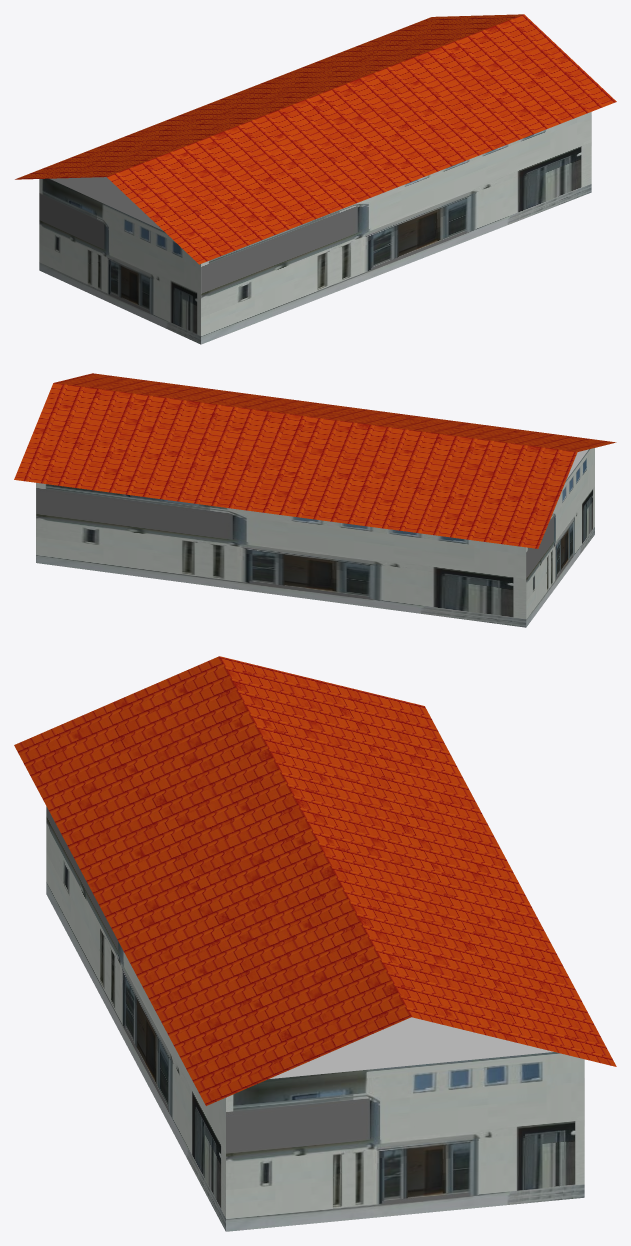
The picture shows the model from 3 angles, top to bottom: view 1: azimuth 30°, elevation 25°; view 2: azimuth 150°, elevation 25°; view 3: azimuth 270°, elevation 25°; orthographic projection. The views are drawn at different scales.
Visible parts, largest first — view 1: CityEngineMaterial_12_m, CityEngineMaterial_11_m, CityEngineMaterial_3_m; view 2: CityEngineMaterial_12_m, CityEngineMaterial_11_m; view 3: CityEngineMaterial_12_m, CityEngineMaterial_11_m, CityEngineMaterial_3_m.
Part boxes in pixels (x1,y1,x2,y2): CityEngineMaterial_12_m: [15, 14, 616, 264]; CityEngineMaterial_11_m: [39, 112, 591, 344]; CityEngineMaterial_3_m: [50, 177, 162, 230]; CityEngineMaterial_12_m: [14, 373, 616, 548]; CityEngineMaterial_11_m: [36, 448, 594, 627]; CityEngineMaterial_12_m: [14, 656, 616, 1105]; CityEngineMaterial_11_m: [46, 806, 584, 1231]; CityEngineMaterial_3_m: [269, 1017, 553, 1078].
Size of the model in its own units: 33.24 by 8.11 by 21.17.
